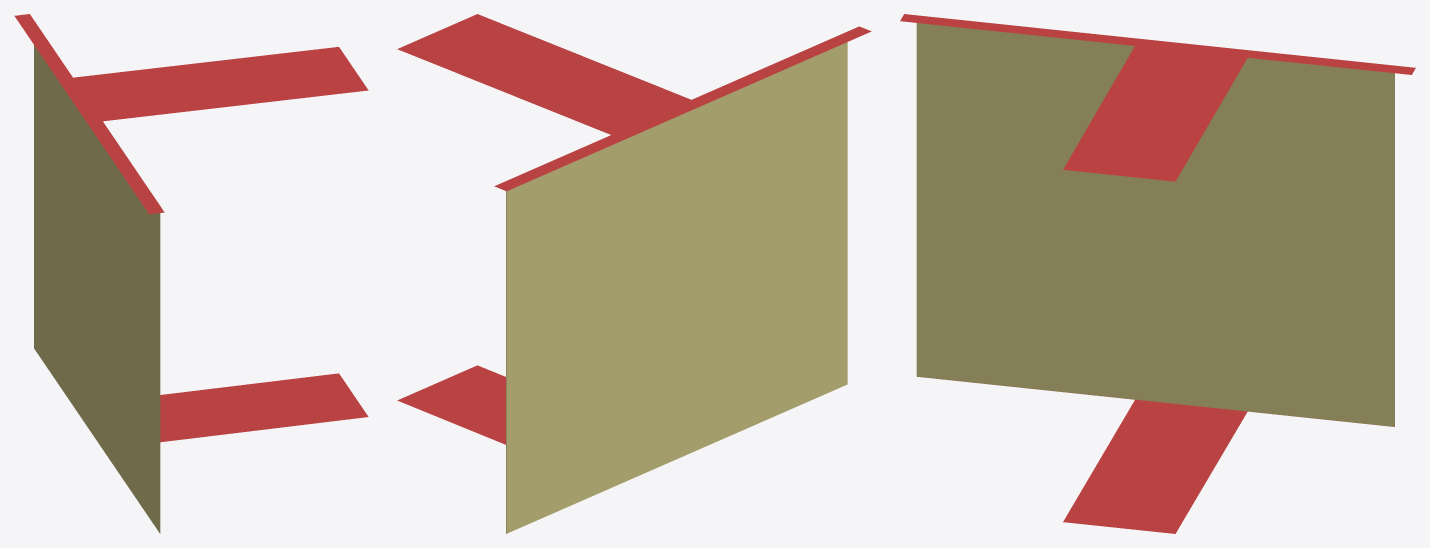
3 views of the same model, side by side, from view 1: azimuth 30°, elevation 25°; view 2: azimuth 150°, elevation 25°; view 3: azimuth 270°, elevation 25° (orthographic). The views are drawn at different scales.
Bounding box in the file's own units: 5.71 × 7.5 × 5.67.
